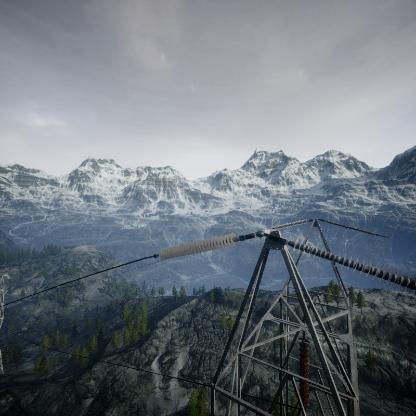insulator: (290, 239, 415, 288), (153, 228, 246, 258), (267, 217, 311, 232)
